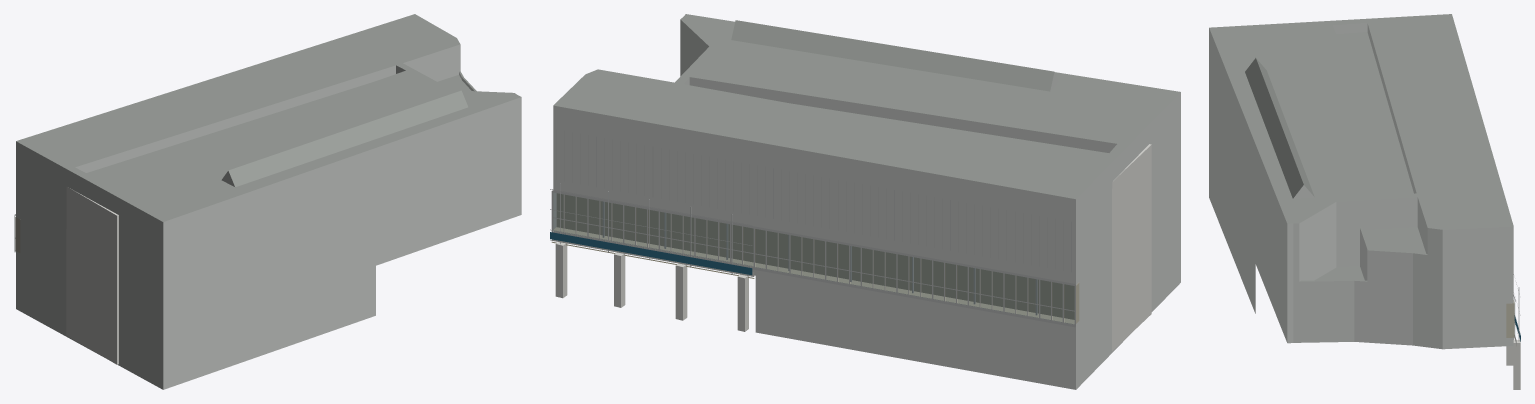
The model's file is station-concourse.glb.
3 renders of one model, left to right at view 1: azimuth 30°, elevation 25°; view 2: azimuth 150°, elevation 25°; view 3: azimuth 270°, elevation 25°, orthographic. The views are drawn at different scales.
Visible parts, largest first — view 1: sc_wall, sc_roof, sc_structure; view 2: sc_wall, sc_roof, sc_interior, sc_glass, sc_frame, sc_structure, sc_safety_blue; view 3: sc_roof, sc_wall, sc_structure, sc_interior.
Part boxes in pixels (x1=…): sc_wall: x1=16, y1=44, x2=521, y2=389; sc_roof: x1=16, y1=14, x2=520, y2=221; sc_structure: x1=66, y1=187, x2=118, y2=364; sc_wall: x1=553, y1=19, x2=1180, y2=389; sc_roof: x1=553, y1=14, x2=1180, y2=199; sc_interior: x1=553, y1=193, x2=1079, y2=324; sc_glass: x1=553, y1=193, x2=1074, y2=323; sc_frame: x1=550, y1=129, x2=1075, y2=327; sc_structure: x1=552, y1=144, x2=1151, y2=351; sc_safety_blue: x1=550, y1=232, x2=752, y2=275; sc_roof: x1=1209, y1=14, x2=1513, y2=281; sc_wall: x1=1209, y1=22, x2=1513, y2=349; sc_structure: x1=1506, y1=337, x2=1520, y2=389; sc_interior: x1=1506, y1=300, x2=1514, y2=337.
Bounding box in the file's own units: 51.22 × 20.28 × 31.23.
